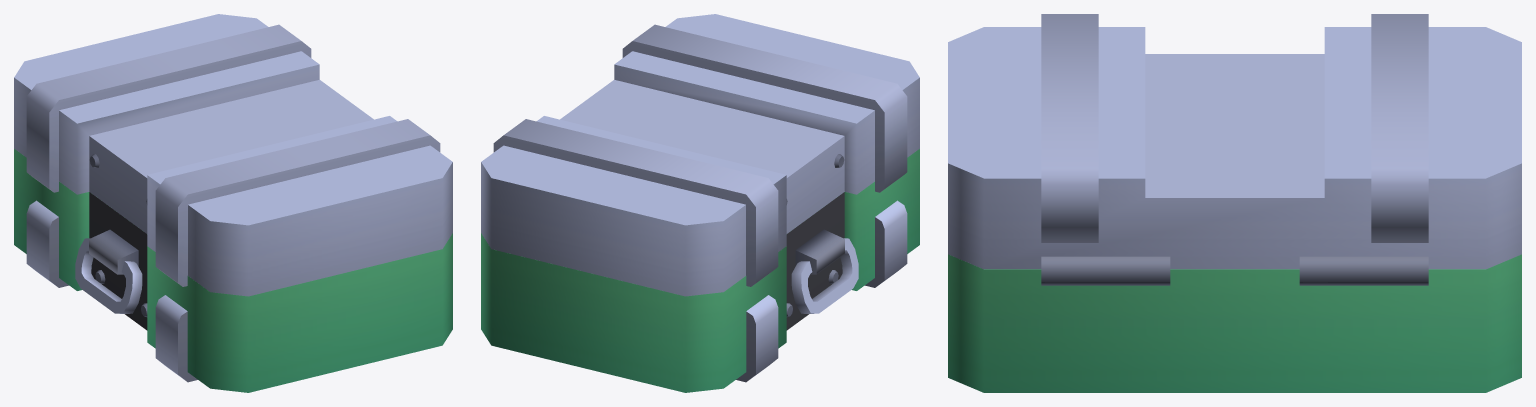
The model's file is crate-small.glb.
3 views of the same model, side by side, from view 1: azimuth 30°, elevation 25°; view 2: azimuth 150°, elevation 25°; view 3: azimuth 270°, elevation 25° (orthographic). The views are drawn at different scales.
Parts seen in each view (by area): view 1: lid, crate-small; view 2: lid, crate-small; view 3: lid, crate-small.
Boxes of the visible parts, x1,y1,x2,y2 form: lid: [14, 14, 452, 296]; crate-small: [14, 149, 452, 392]; lid: [481, 14, 919, 296]; crate-small: [481, 149, 919, 392]; lid: [948, 14, 1521, 269]; crate-small: [948, 254, 1521, 392].
Bounding box in the file's own units: 0.5495 × 0.37 × 0.8.
1 material, 1 textured.
